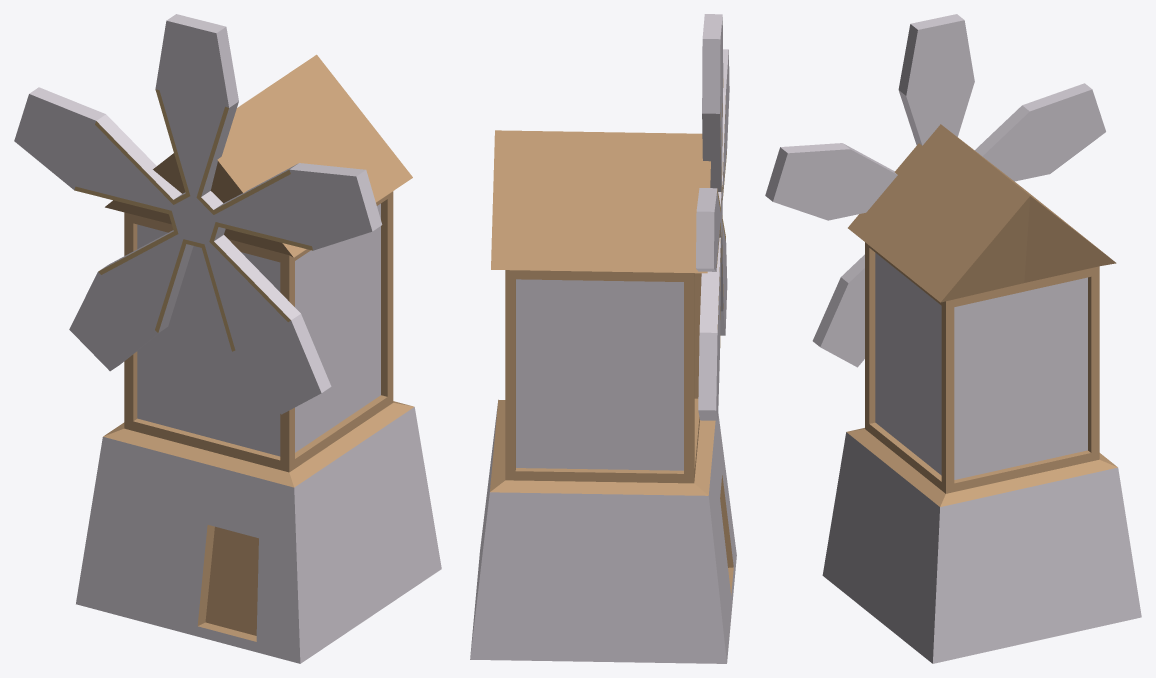
The model's file is windmill.fbx.
3 renders of one model, left to right at view 1: azimuth 30°, elevation 25°; view 2: azimuth 150°, elevation 25°; view 3: azimuth 270°, elevation 25°, orthographic. The views are drawn at different scales.
Visible parts, largest first — view 1: Mill, propeller; view 2: Mill, propeller; view 3: Mill, propeller.
Boxes of the visible parts, x1,y1,x2,y2 form: Mill: [76, 54, 441, 663]; propeller: [14, 14, 382, 414]; Mill: [470, 130, 736, 663]; propeller: [696, 14, 729, 420]; Mill: [822, 124, 1141, 663]; propeller: [765, 14, 1105, 367].
Size of the model in its own units: 55.74 by 96.01 by 61.05.
